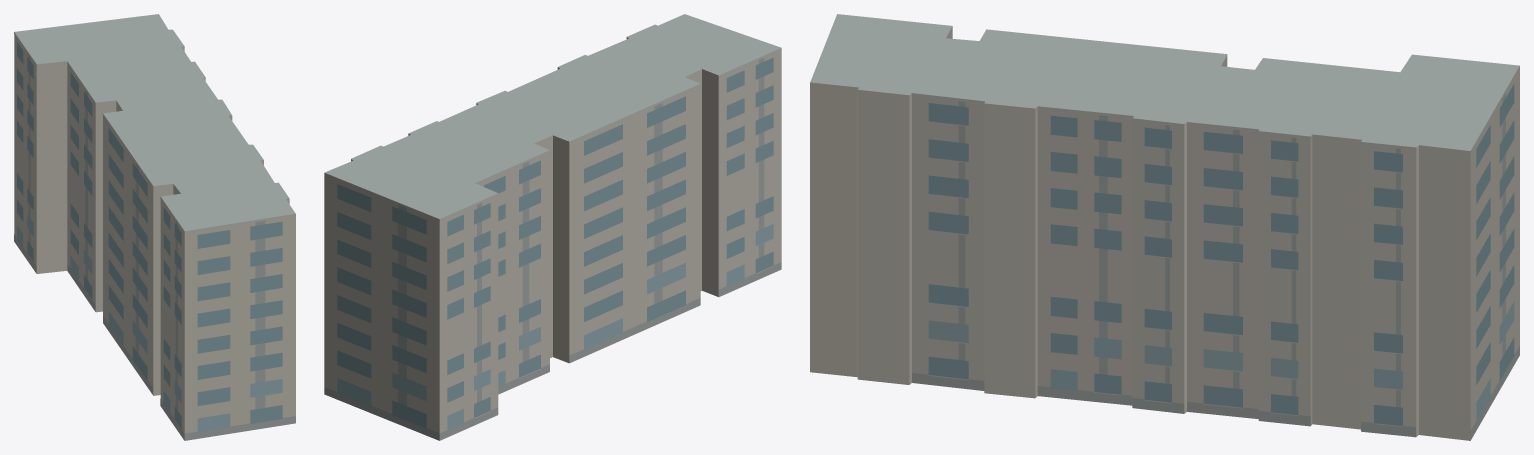
Rendered from survey-upis-32870189.glb.
The picture shows the model from 3 angles, left to right: view 1: azimuth 30°, elevation 25°; view 2: azimuth 150°, elevation 25°; view 3: azimuth 270°, elevation 25°; orthographic projection. The views are drawn at different scales.
Visible parts, largest first — view 1: survey-upis-32870189.tmp; view 2: survey-upis-32870189.tmp; view 3: survey-upis-32870189.tmp.
Part boxes in pixels (box(x1,y1,x2,y2)): survey-upis-32870189.tmp: box(14, 14, 295, 440); survey-upis-32870189.tmp: box(324, 14, 781, 440); survey-upis-32870189.tmp: box(810, 14, 1519, 440).
Bounding box in the file's own units: 24.76 × 24.4 × 54.16.
